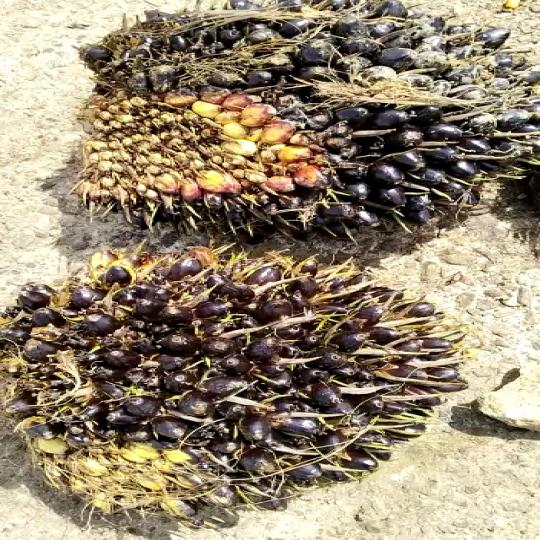mentah: (0, 243, 463, 539), (50, 0, 540, 260)
